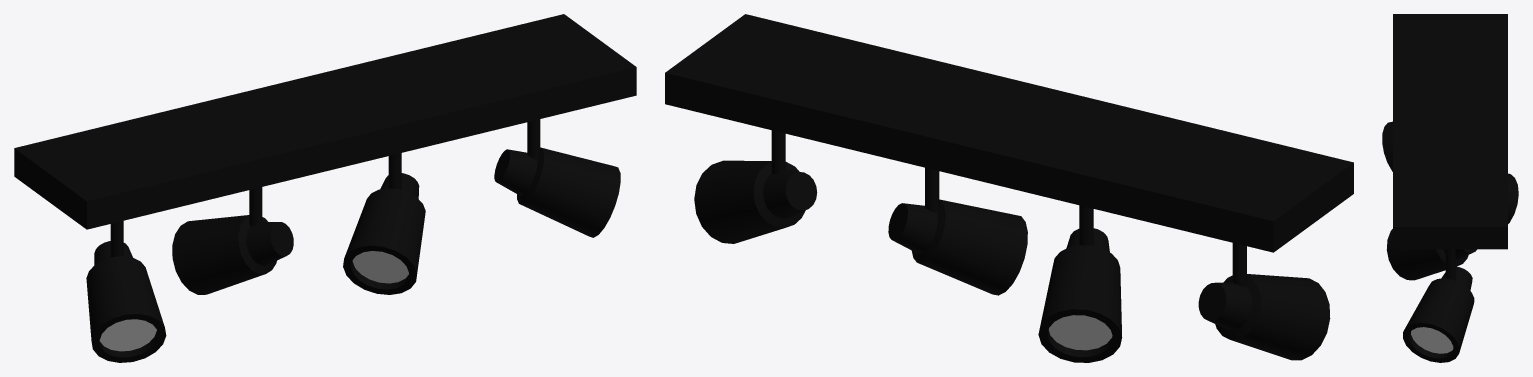
File: Ceiling lamp.FBX
3 views of the same model, side by side, from view 1: azimuth 30°, elevation 25°; view 2: azimuth 150°, elevation 25°; view 3: azimuth 270°, elevation 25° (orthographic). The views are drawn at different scales.
Visible parts, largest first — view 1: ceiling lamp; view 2: ceiling lamp; view 3: ceiling lamp.
Part boxes in pixels (x1=…): ceiling lamp: x1=14, y1=14, x2=636, y2=362; ceiling lamp: x1=665, y1=14, x2=1353, y2=362; ceiling lamp: x1=1382, y1=14, x2=1518, y2=362.
Bounding box in the file's own units: 59.95 × 18.59 × 16.02.
2 materials, 1 textured.
